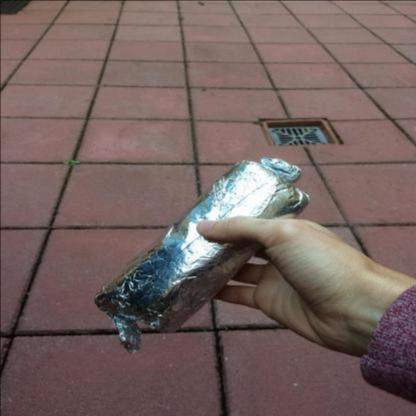Aluminium foil: (94, 156, 310, 352)
